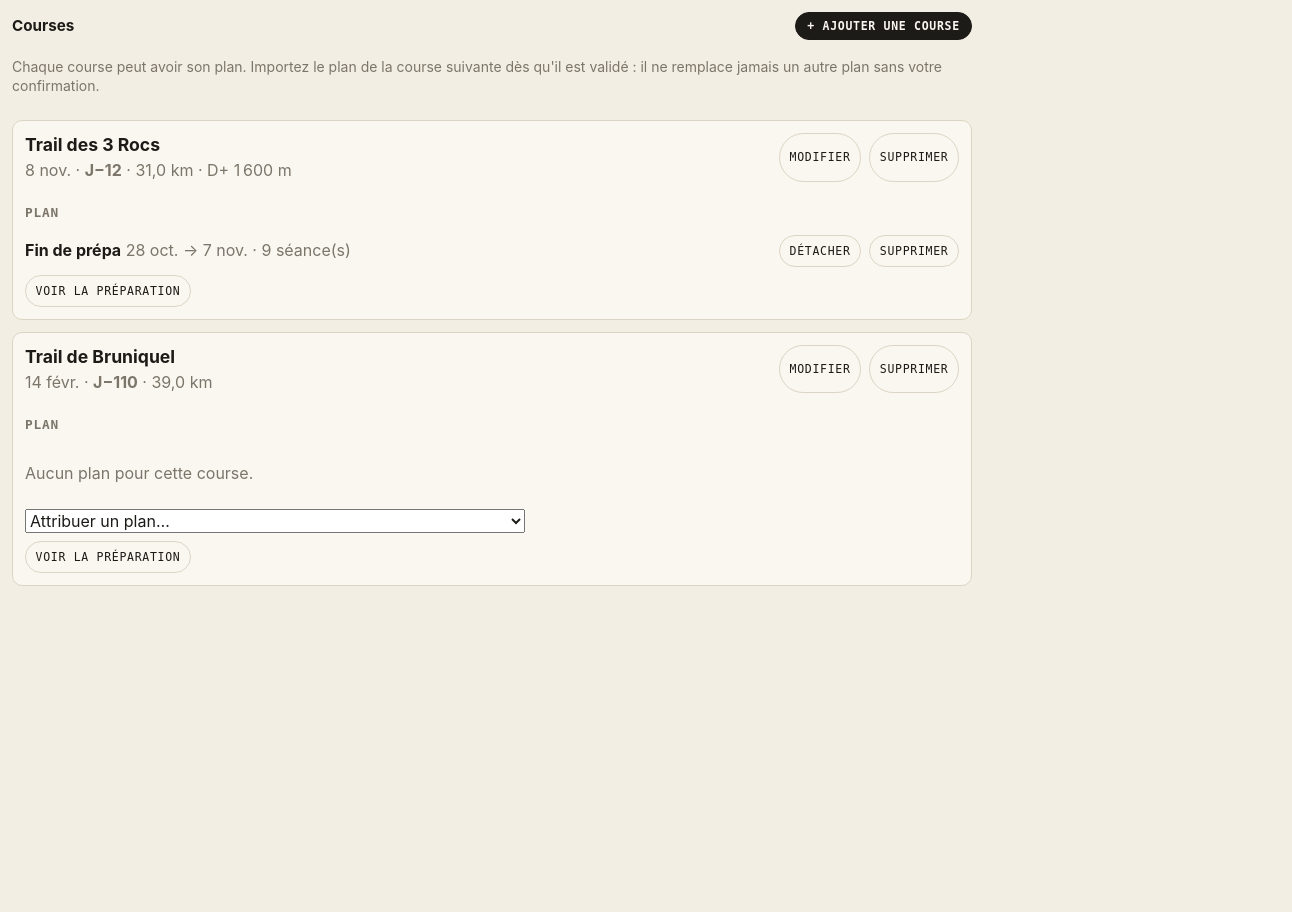
Test: Page Courses › supprime un plan après confirmation
What coordinates should you click on to do the following:
click the button "Supprimer" in the row of "Fin de prépa"
I would click on:
 (914, 251)
Its box is [869, 235, 959, 267].
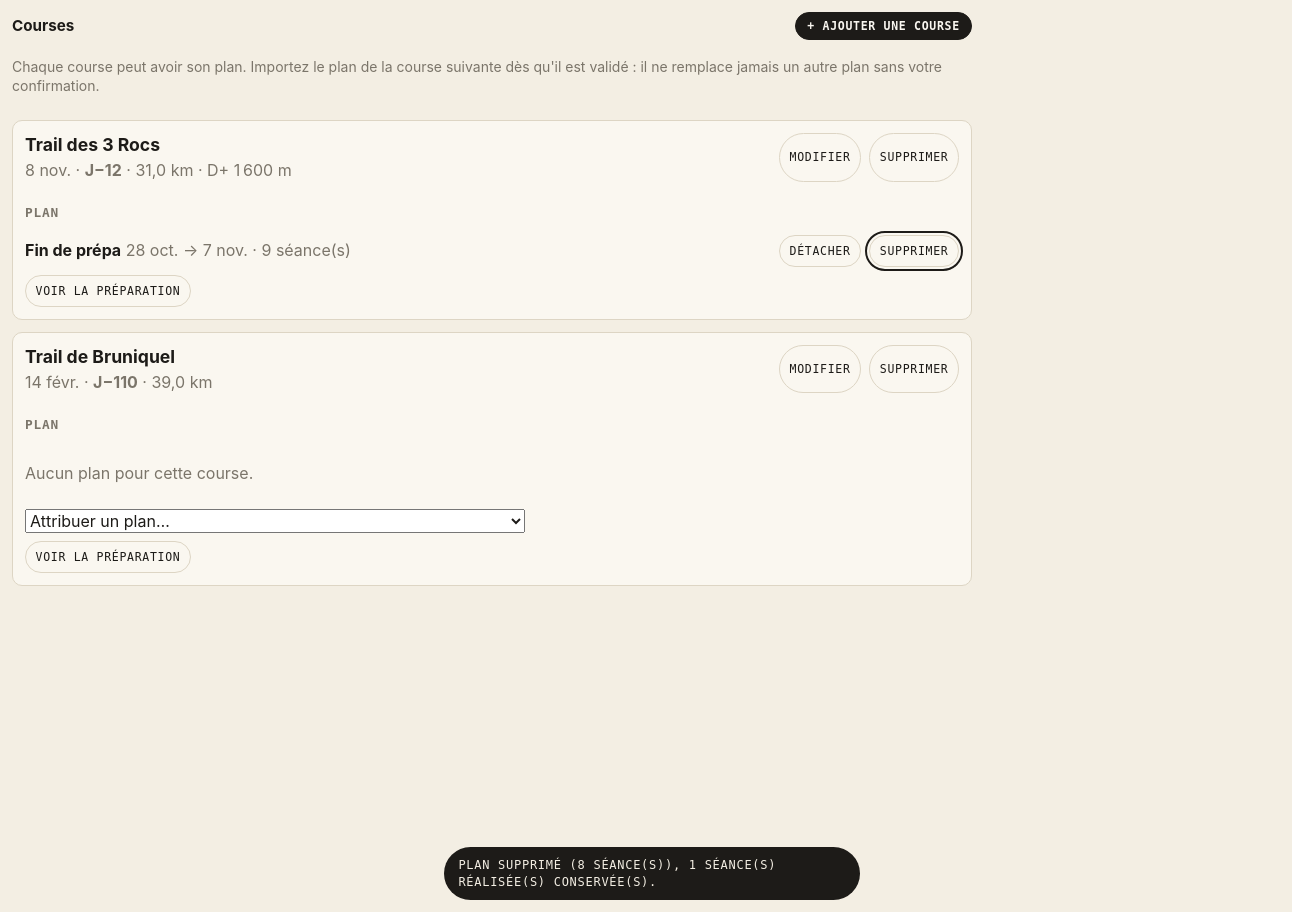
Now the text "1 séance(s) réalisée(s) conservée(s)" is shown, box [458, 858, 776, 889]
